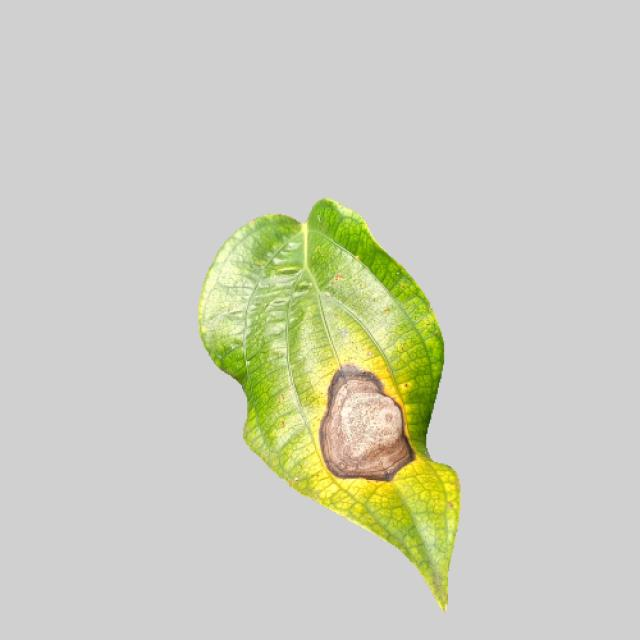leaf-blight: (179, 202, 460, 613)
